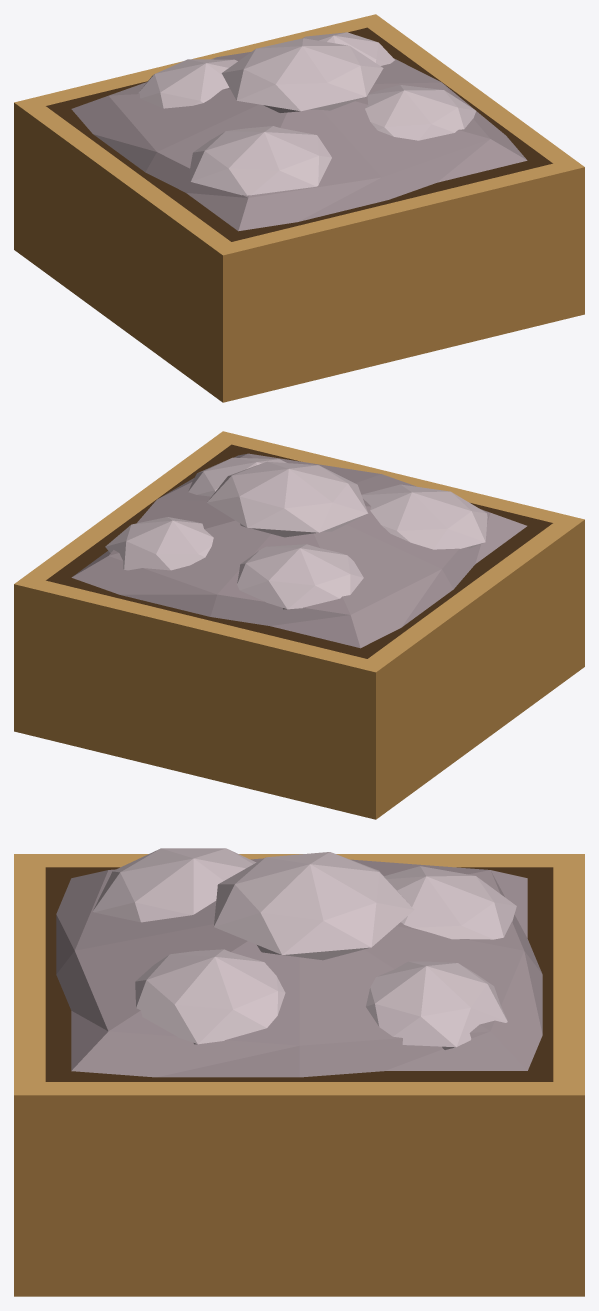
The model's file is item_produce_fungus_a.obj.
3 views of the same model, one above another, from view 1: azimuth 30°, elevation 25°; view 2: azimuth 150°, elevation 25°; view 3: azimuth 270°, elevation 25° (orthographic). The views are drawn at different scales.
Bounding box in the file's own units: 0.5724 × 0.3498 × 0.5724.
